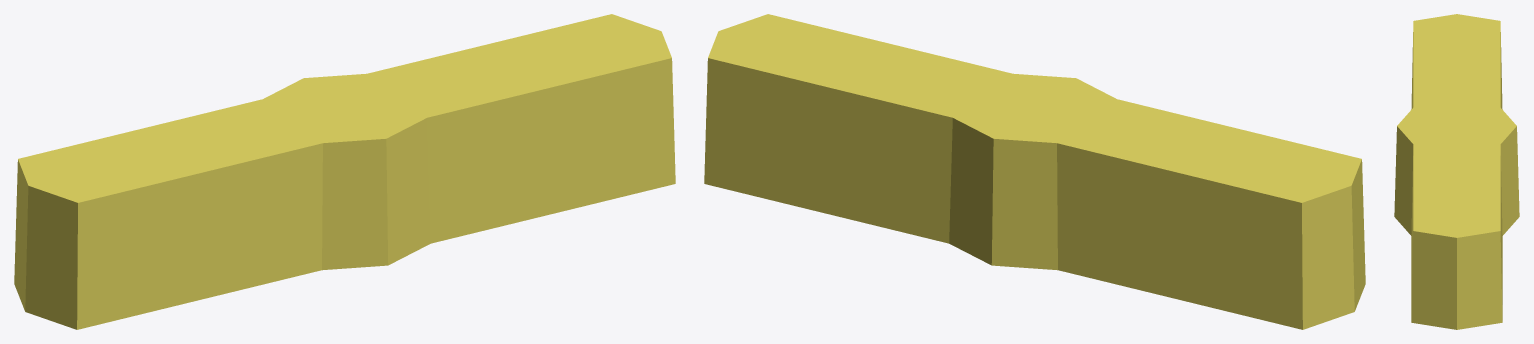
Rendered from Shaft4.glb.
3 renders of one model, left to right at view 1: azimuth 30°, elevation 25°; view 2: azimuth 150°, elevation 25°; view 3: azimuth 270°, elevation 25°, orthographic. The views are drawn at different scales.
Parts seen in each view (by area): view 1: Shaft4.001; view 2: Shaft4.001; view 3: Shaft4.001.
Boxes of the visible parts, bbox=[...] form: Shaft4.001: bbox=[14, 14, 675, 329]; Shaft4.001: bbox=[704, 14, 1365, 329]; Shaft4.001: bbox=[1394, 14, 1519, 329].
Size of the model in its own units: 2.61 by 0.4896 by 0.6111.
